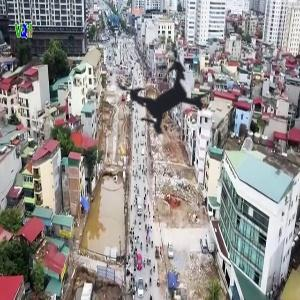drone: (86, 17, 244, 175)
